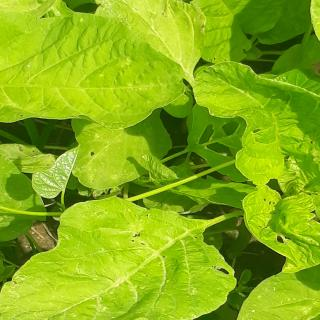karat_putih: (42, 266, 157, 318), (285, 291, 319, 320)
virus_keriting: (285, 189, 320, 267), (94, 0, 138, 13)
